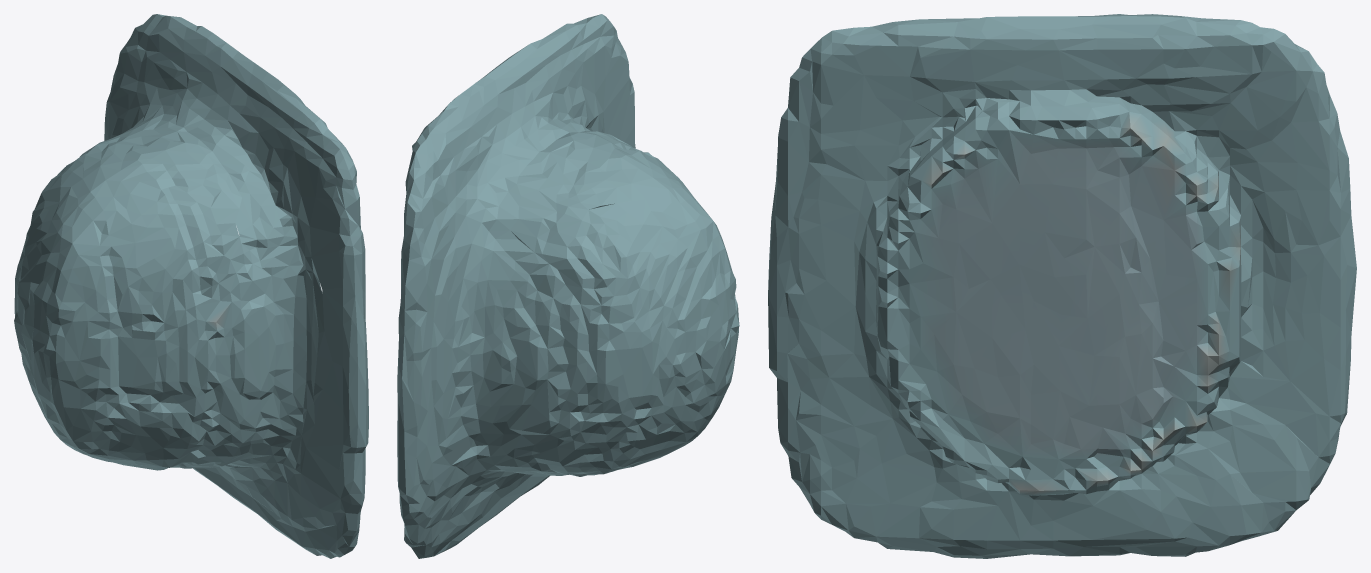
File: water_puddle.glb
The picture shows the model from 3 angles, left to right: view 1: azimuth 30°, elevation 25°; view 2: azimuth 150°, elevation 25°; view 3: azimuth 270°, elevation 25°; orthographic projection. The views are drawn at different scales.
Parts seen in each view (by area): view 1: world; view 2: world; view 3: world.
Part boxes in pixels (x1=…): world: x1=14, y1=14, x2=368, y2=558; world: x1=397, y1=14, x2=739, y2=558; world: x1=768, y1=14, x2=1356, y2=558.
Bounding box in the file's own units: 0.0919 × 0.15 × 0.1475.
